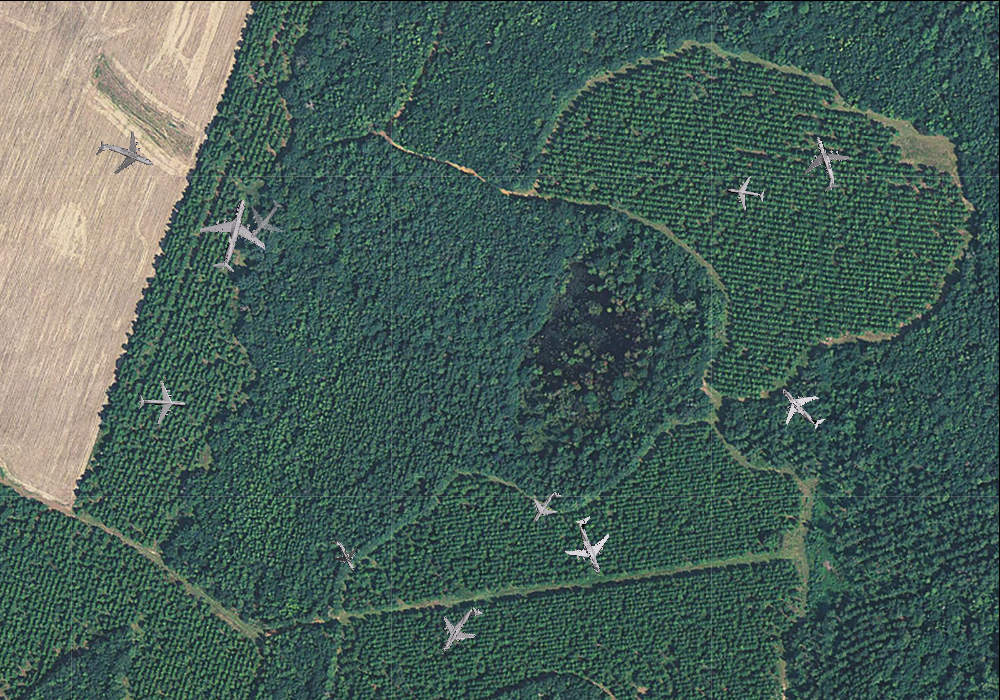plane: (189, 190, 276, 280), (554, 508, 626, 583), (88, 119, 161, 190), (766, 371, 837, 443), (426, 594, 495, 666), (791, 128, 859, 198), (233, 188, 296, 250), (520, 482, 570, 533), (136, 379, 186, 426), (322, 532, 366, 578), (724, 172, 767, 213)
